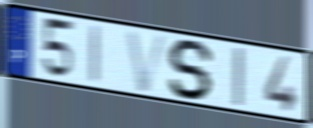4: (263, 54, 300, 116)
5: (40, 14, 75, 81)
I: (231, 45, 245, 109), (89, 23, 102, 86)
S: (166, 38, 217, 102)
V: (124, 28, 172, 94)
